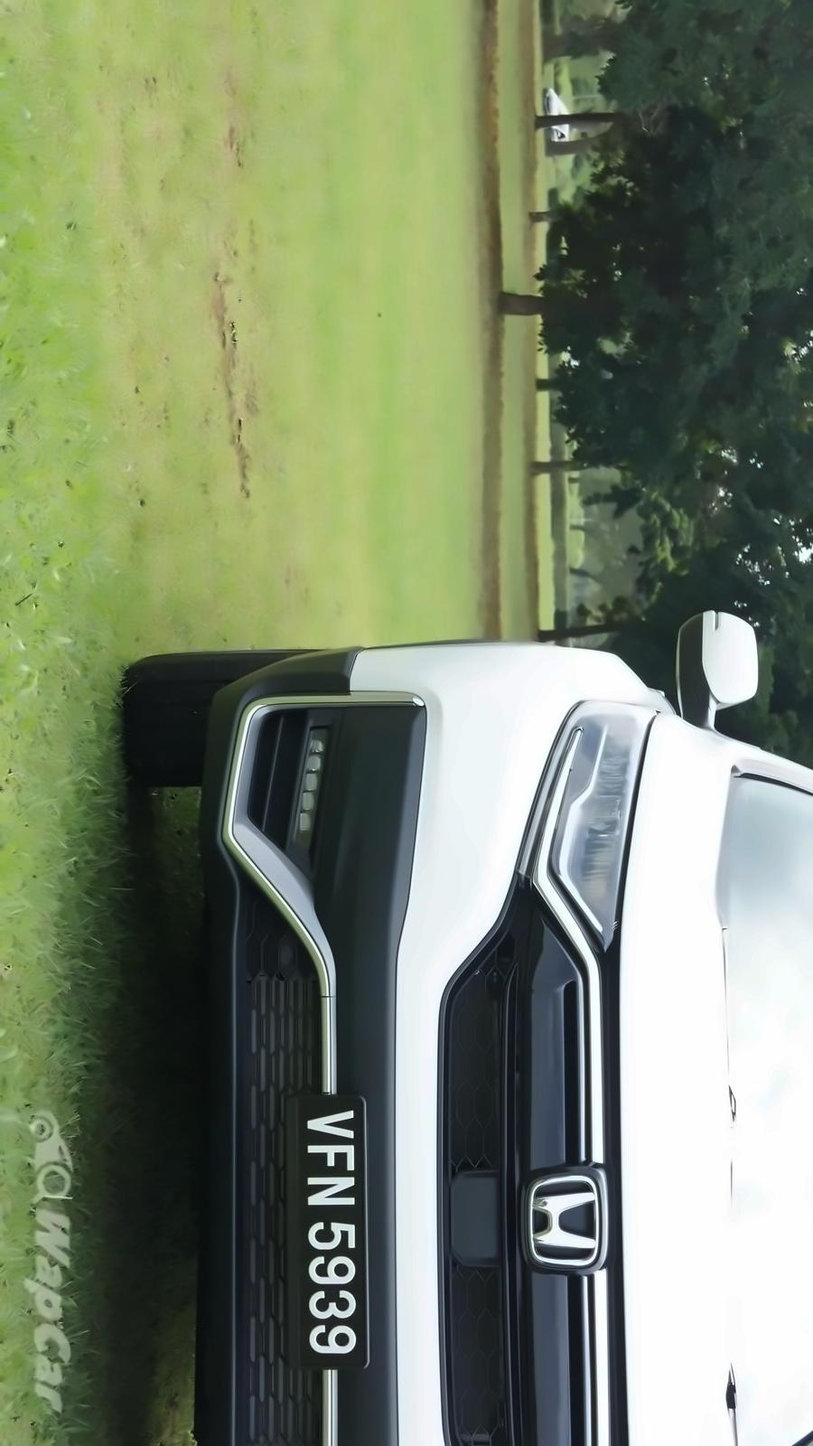Car hood: (597, 693, 742, 1446)
Front bumper: (178, 618, 531, 1446)
Headlight - -R-: (506, 681, 665, 959)
Side mirror - -R-: (642, 594, 783, 726)
